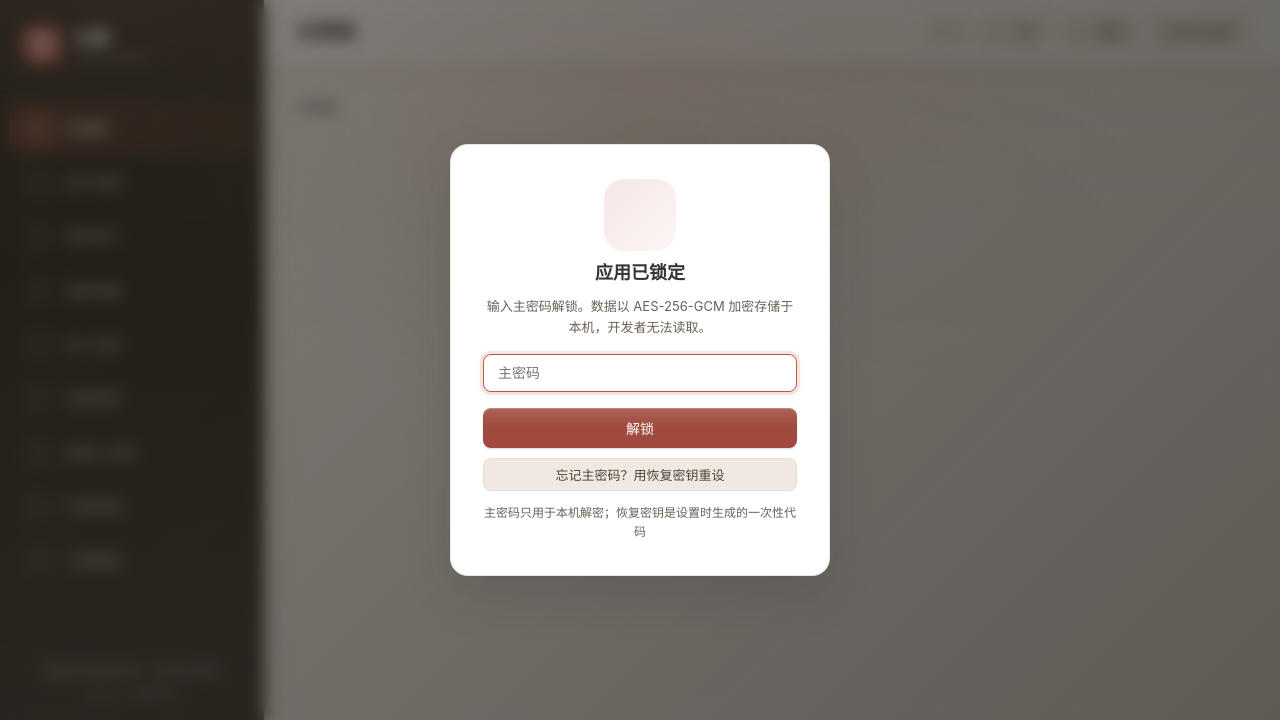
Test case: 恢复密钥流程 › 恢复码正确后进入重设密码步骤
Click the button "忘记主密码？用恢复密钥重设": (640, 474) [483,458,797,490]
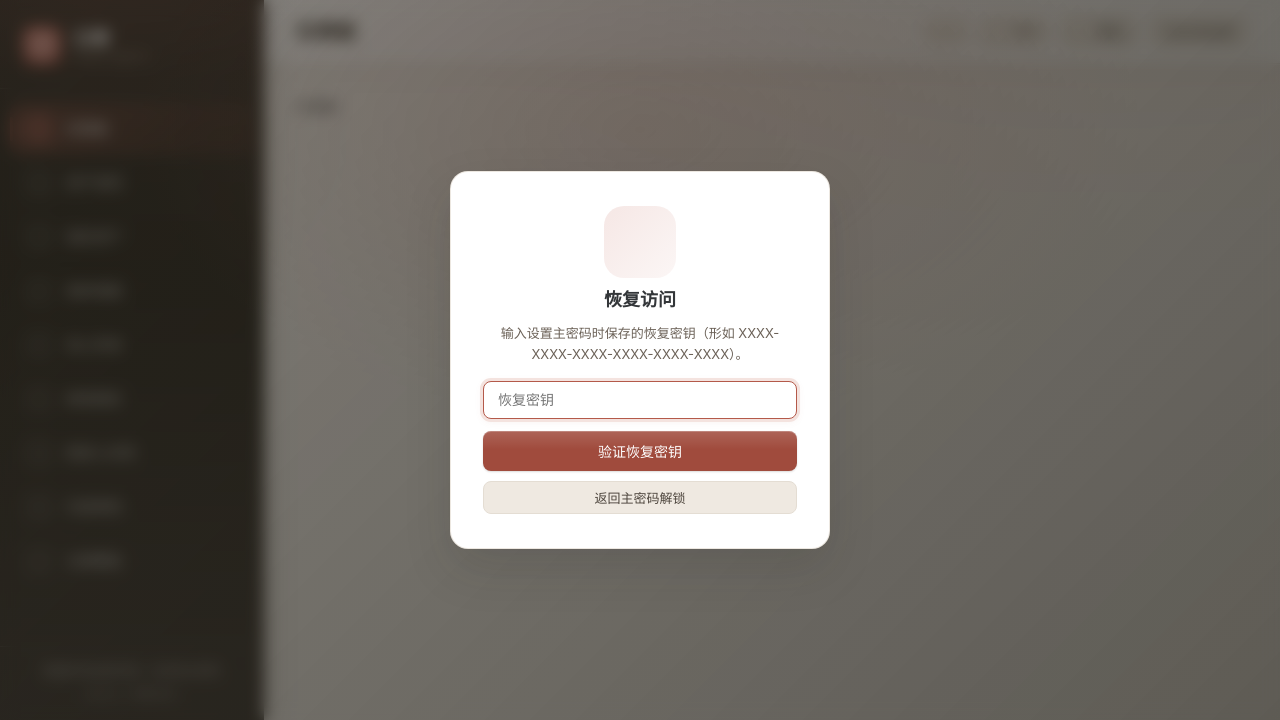
In the field named "恢复密钥": (640, 400) [483,381,797,419], type "ABCD-EFGH-JKLM-NPQR-STUV-WXYZ"
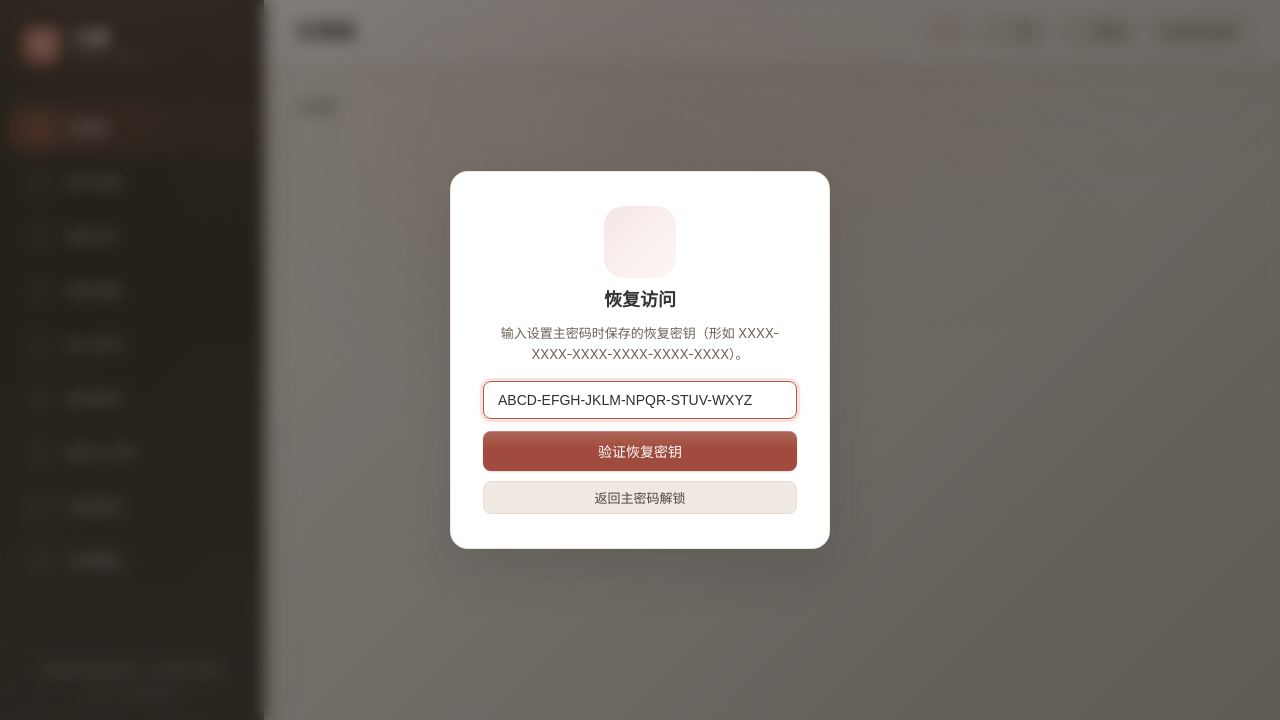
Click the button "验证恢复密钥": (640, 451) [483,431,797,471]
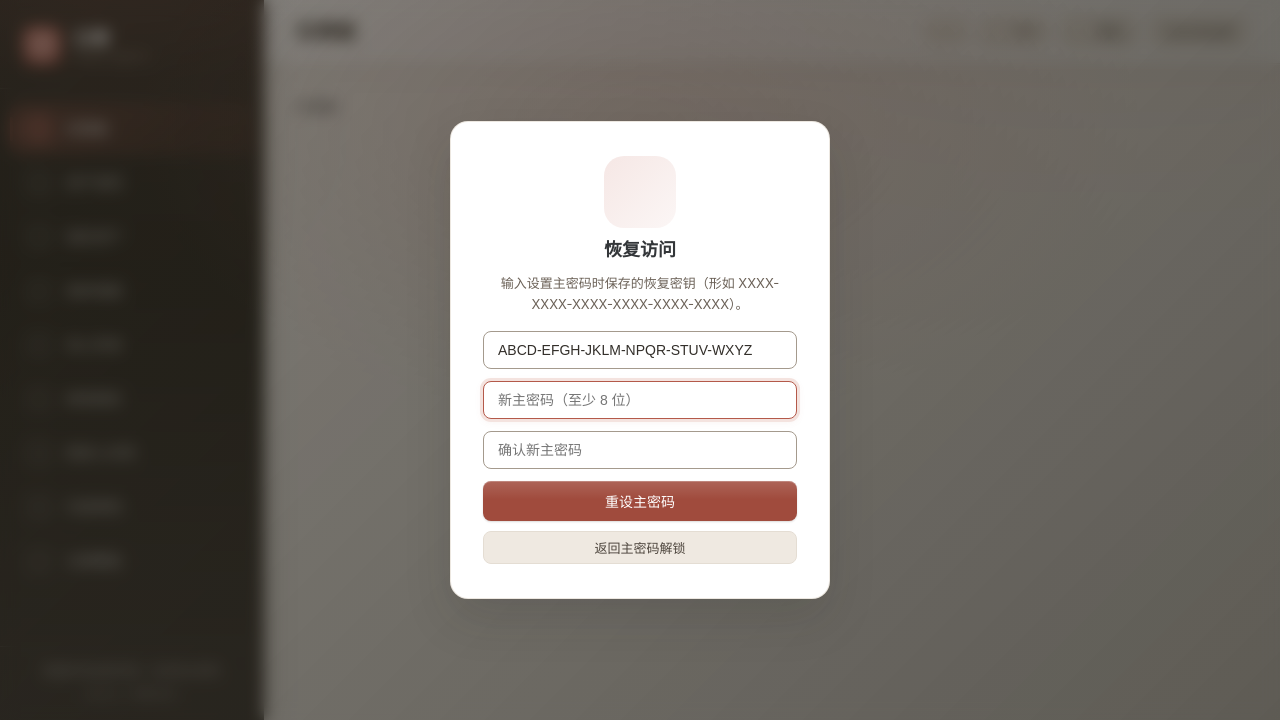
Expected: the password field named "新主密码（至少 8 位）" is shown, [483,381,797,419]
